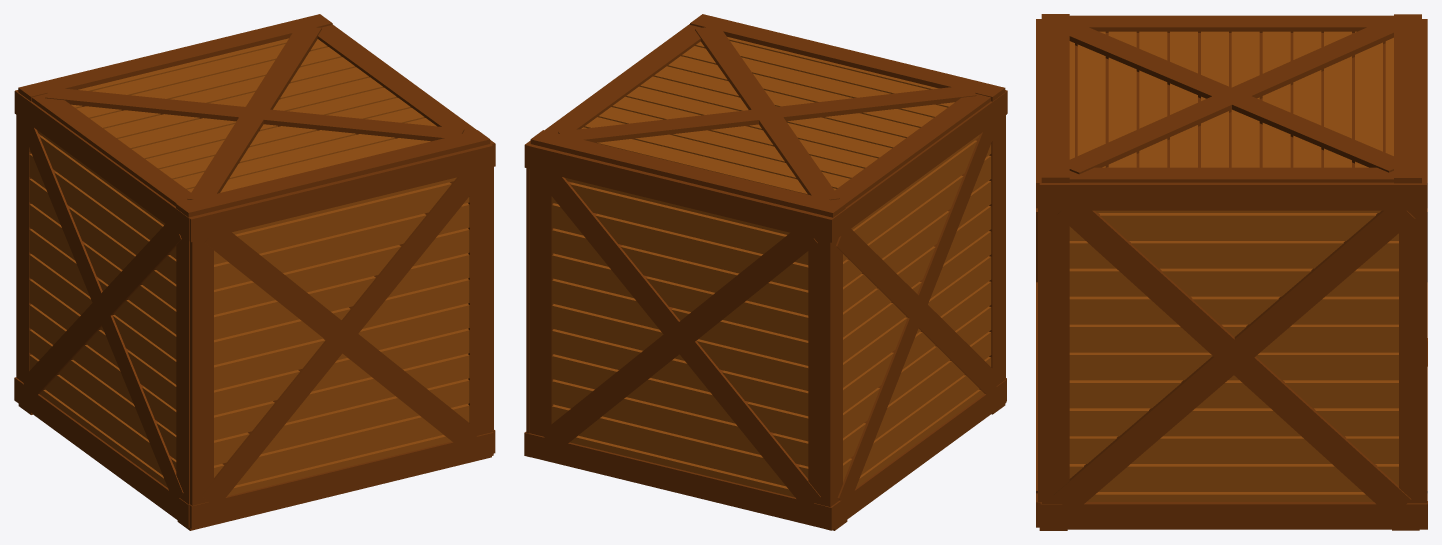
The model's file is CajaTransparencia.fbx.
3 renders of one model, left to right at view 1: azimuth 30°, elevation 25°; view 2: azimuth 150°, elevation 25°; view 3: azimuth 270°, elevation 25°, orthographic. The views are drawn at different scales.
Parts seen in each view (by area): view 1: Cube.010; view 2: Cube.010; view 3: Cube.010.
Boxes of the visible parts, x1,y1,x2,y2 form: Cube.010: (14, 14, 495, 530); Cube.010: (524, 14, 1007, 530); Cube.010: (1036, 14, 1427, 530).
Bounding box in the file's own units: 211 × 209 × 210.
